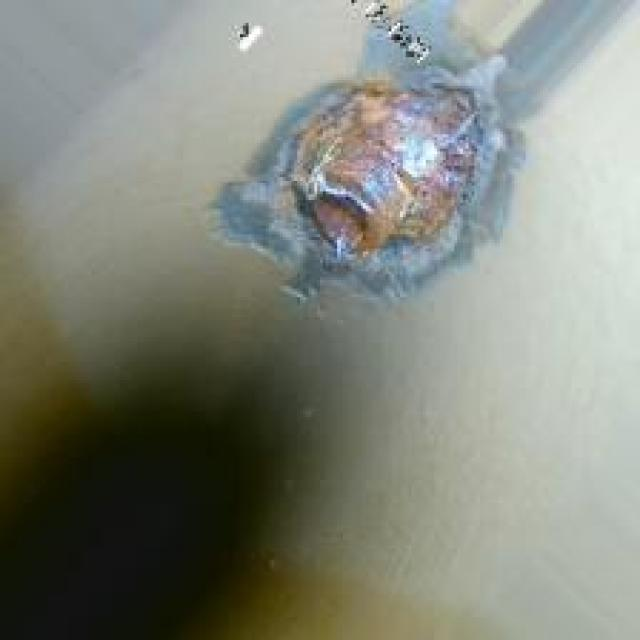ferrule: (280, 54, 477, 263)
